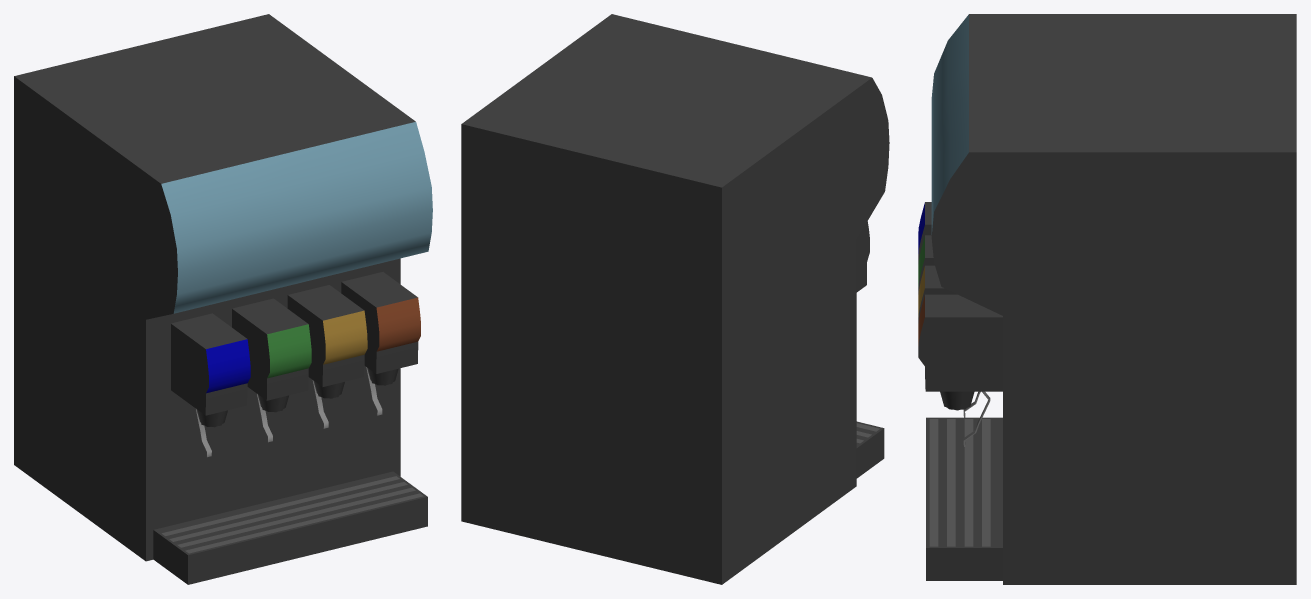
File: krajcon19_Davkovac.fbx
3 views of the same model, side by side, from view 1: azimuth 30°, elevation 25°; view 2: azimuth 150°, elevation 25°; view 3: azimuth 270°, elevation 25° (orthographic). The views are drawn at different scales.
Visible parts, largest first — view 1: polySurface8, polySurface10, polySurface1, pasted__pasted__polySurface6 (×2), polySurface6, mrizka, pasted__polySurface6, pasted__pasted__polySurface7 (×2), pasted__polySurface7, polySurface7; view 2: polySurface8, polySurface1, polySurface6; view 3: polySurface8, polySurface1, pasted__pasted__polySurface6 (×2), polySurface11, polySurface10, mrizka, pasted__pasted__pPipe1.
Part boxes in pixels (x1=…): polySurface8: x1=14, y1=14, x2=415, y2=561; polySurface10: x1=161, y1=122, x2=432, y2=313; polySurface1: x1=153, y1=471, x2=427, y2=584; pasted__pasted__polySurface6 (×2): x1=287, y1=272, x2=418, y2=386; polySurface6: x1=171, y1=313, x2=247, y2=415; mrizka: x1=162, y1=476, x2=423, y2=553; pasted__polySurface6: x1=232, y1=298, x2=308, y2=400; pasted__pasted__polySurface7 (×2): x1=323, y1=297, x2=420, y2=364; pasted__polySurface7: x1=267, y1=324, x2=311, y2=378; polySurface7: x1=206, y1=339, x2=250, y2=393; polySurface8: x1=461, y1=14, x2=889, y2=584; polySurface1: x1=856, y1=421, x2=884, y2=478; polySurface6: x1=856, y1=221, x2=869, y2=292; polySurface8: x1=931, y1=14, x2=1296, y2=584; polySurface1: x1=926, y1=417, x2=1002, y2=580; pasted__pasted__polySurface6 (×2): x1=918, y1=265, x2=1002, y2=391; polySurface11: x1=941, y1=251, x2=1078, y2=315; polySurface10: x1=931, y1=14, x2=968, y2=234; mrizka: x1=929, y1=419, x2=990, y2=546; pasted__pasted__pPipe1: x1=940, y1=391, x2=974, y2=410.
Bounding box in the file's own units: 4.25 × 6.2 × 4.91.
